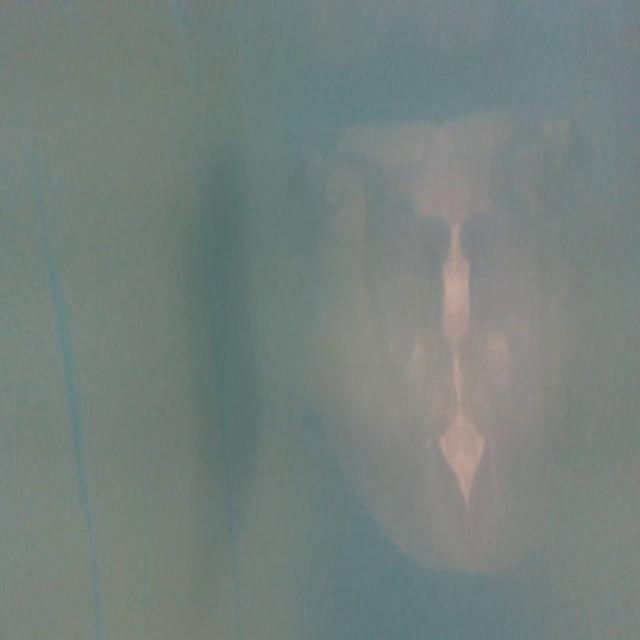plastic bags: (261, 94, 576, 588)
